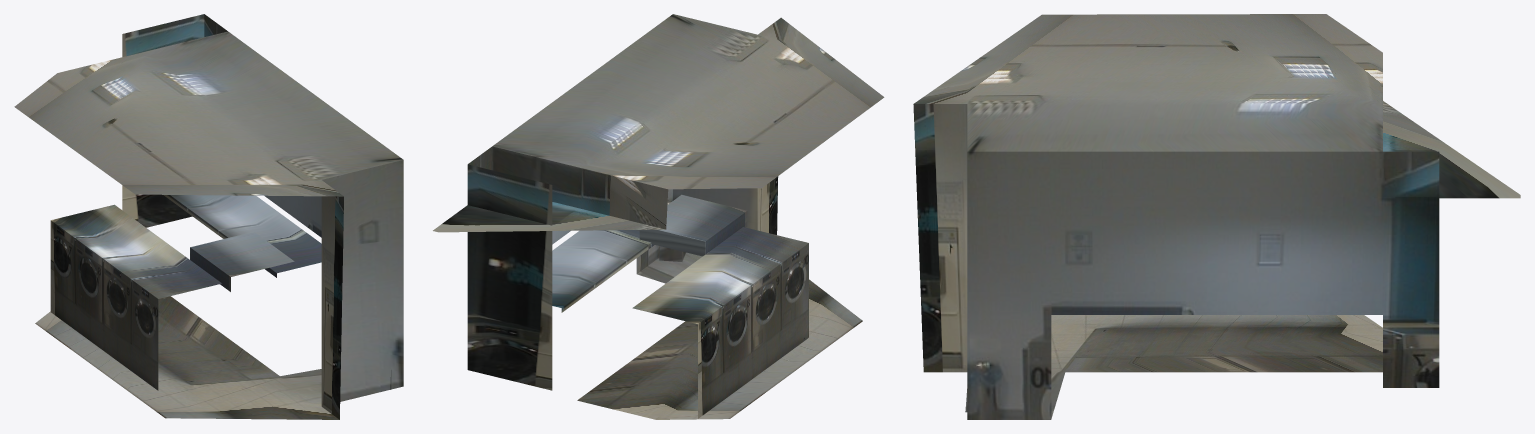
Rendered from washing.obj.
The picture shows the model from 3 angles, left to right: view 1: azimuth 30°, elevation 25°; view 2: azimuth 150°, elevation 25°; view 3: azimuth 270°, elevation 25°; orthographic projection. The views are drawn at different scales.
Visible parts, largest first — view 1: Plane; view 2: Plane; view 3: Plane.
Part boxes in pixels (x1=…): Plane: x1=14, y1=14, x2=403, y2=419; Plane: x1=433, y1=14, x2=884, y2=419; Plane: x1=913, y1=14, x2=1520, y2=419.
Bounding box in the file's own units: 7.7 × 6.93 × 14.19.
1 material, 1 textured.
